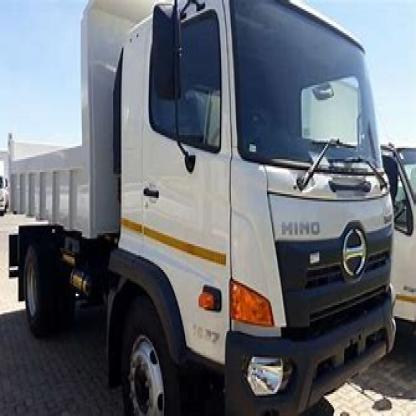dump_truck: (6, 6, 404, 410)
